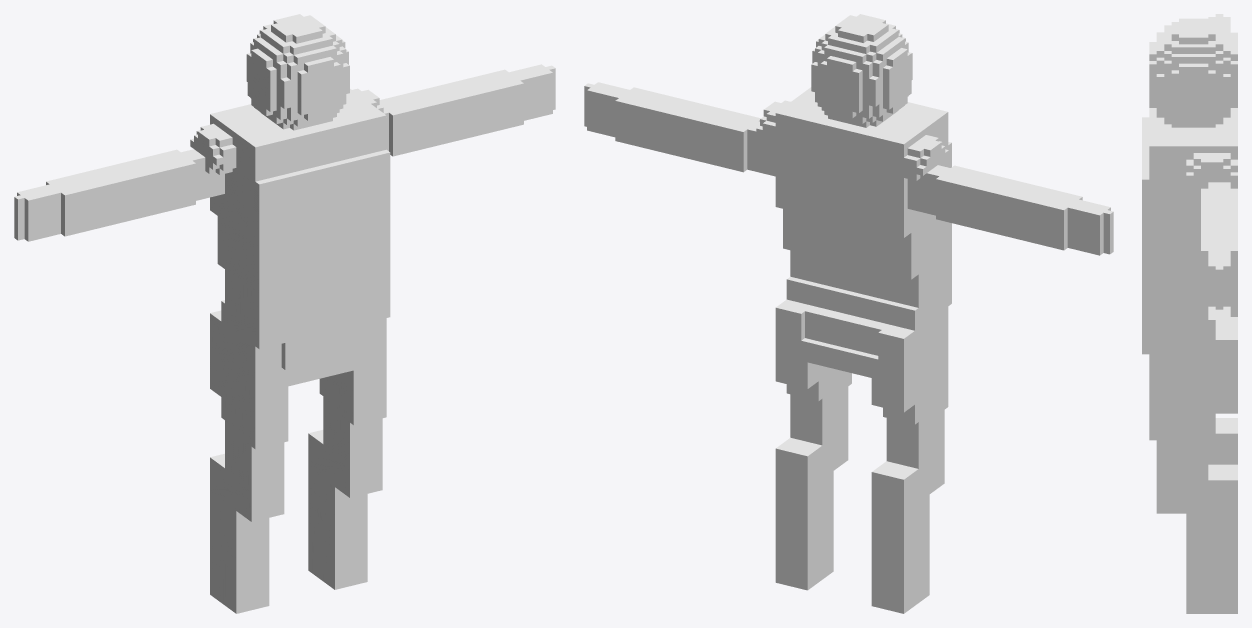
Rendered from humanoid-optimized.fbx.
3 renders of one model, left to right at view 1: azimuth 30°, elevation 25°; view 2: azimuth 150°, elevation 25°; view 3: azimuth 270°, elevation 25°, orthographic. The views are drawn at different scales.
Parts seen in each view (by area): view 1: Compound; view 2: Compound; view 3: Compound.
Boxes of the visible parts, x1=… form: Compound: x1=14, y1=14, x2=555, y2=613; Compound: x1=584, y1=14, x2=1113, y2=613; Compound: x1=1142, y1=14, x2=1237, y2=613.
Size of the model in its own units: 82 by 83 by 13.
Materials: 1 (1 with a texture image).
